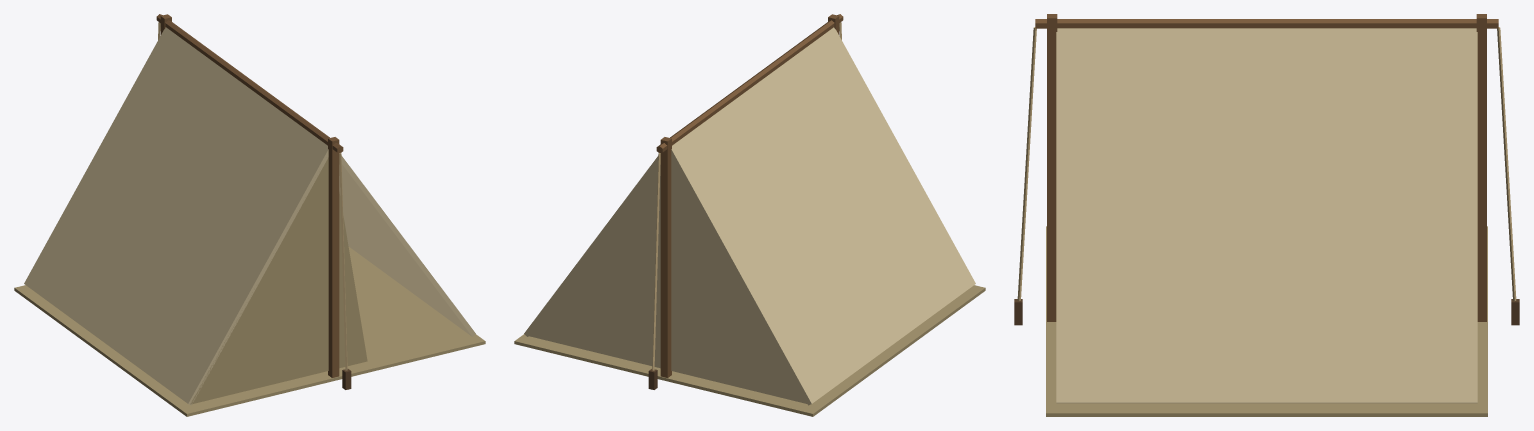
File: tent.glb
3 views of the same model, side by side, from view 1: azimuth 30°, elevation 25°; view 2: azimuth 150°, elevation 25°; view 3: azimuth 270°, elevation 25° (orthographic). The views are drawn at different scales.
Visible parts, largest first — view 1: tent; view 2: tent; view 3: tent.
Boxes of the visible parts, box(x1,y1,x2,y2) form: tent: box(14, 14, 485, 416); tent: box(514, 14, 985, 416); tent: box(1014, 14, 1519, 416).
Size of the model in its own units: 2.1 by 1.61 by 2.4.
